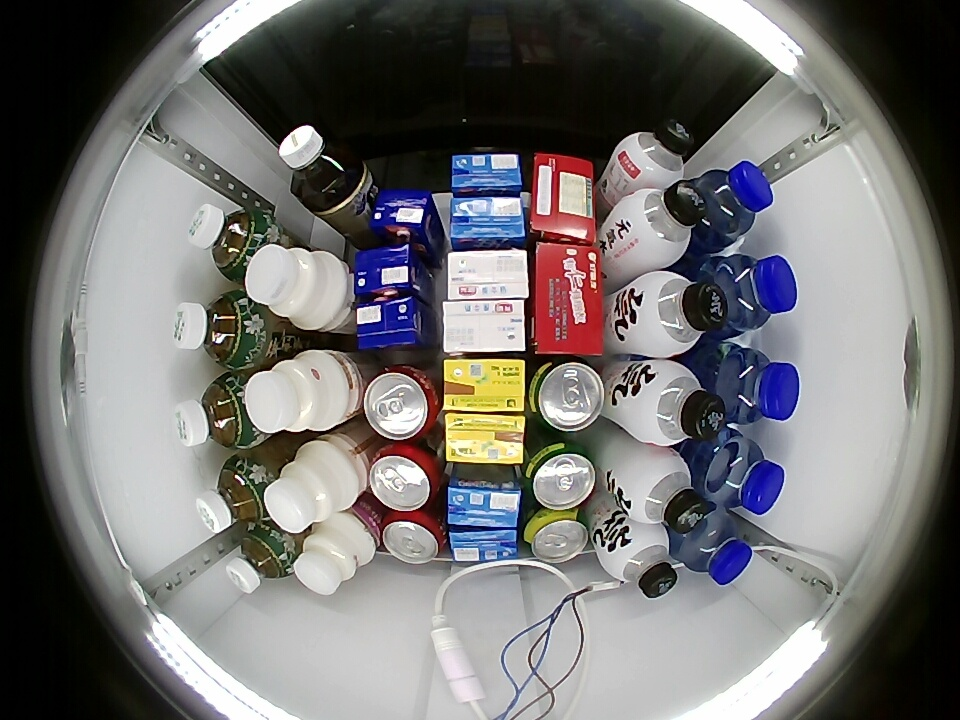bingqilinniunai: (370, 189, 440, 248), (355, 294, 429, 349), (353, 246, 426, 299)
haoliyou: (529, 241, 605, 356), (528, 153, 596, 246)
kele: (363, 366, 439, 441), (369, 442, 439, 511), (381, 510, 445, 565)
maidong: (711, 253, 798, 333), (701, 436, 786, 516), (715, 346, 800, 425), (697, 161, 774, 242), (677, 506, 753, 585)
moliqingcha: (188, 202, 276, 283), (172, 290, 260, 370), (174, 371, 262, 451), (196, 454, 271, 535), (223, 521, 298, 594)
niunai: (442, 299, 527, 356), (446, 248, 530, 301)
weitanai: (448, 196, 527, 248), (446, 477, 522, 528), (451, 152, 523, 197), (447, 525, 518, 563)
weitaningmeng: (444, 357, 526, 413), (444, 412, 526, 465)
wulongcha: (279, 124, 350, 201)
xuebi2: (526, 358, 605, 433), (523, 441, 596, 511), (522, 509, 589, 563)
yingyangkuaixian: (264, 438, 362, 533), (245, 350, 354, 435), (246, 244, 348, 333), (294, 513, 376, 595)
yuanqishui: (626, 271, 730, 357), (625, 360, 727, 445), (614, 447, 711, 536), (617, 181, 708, 268), (600, 523, 679, 599), (617, 118, 695, 190)
